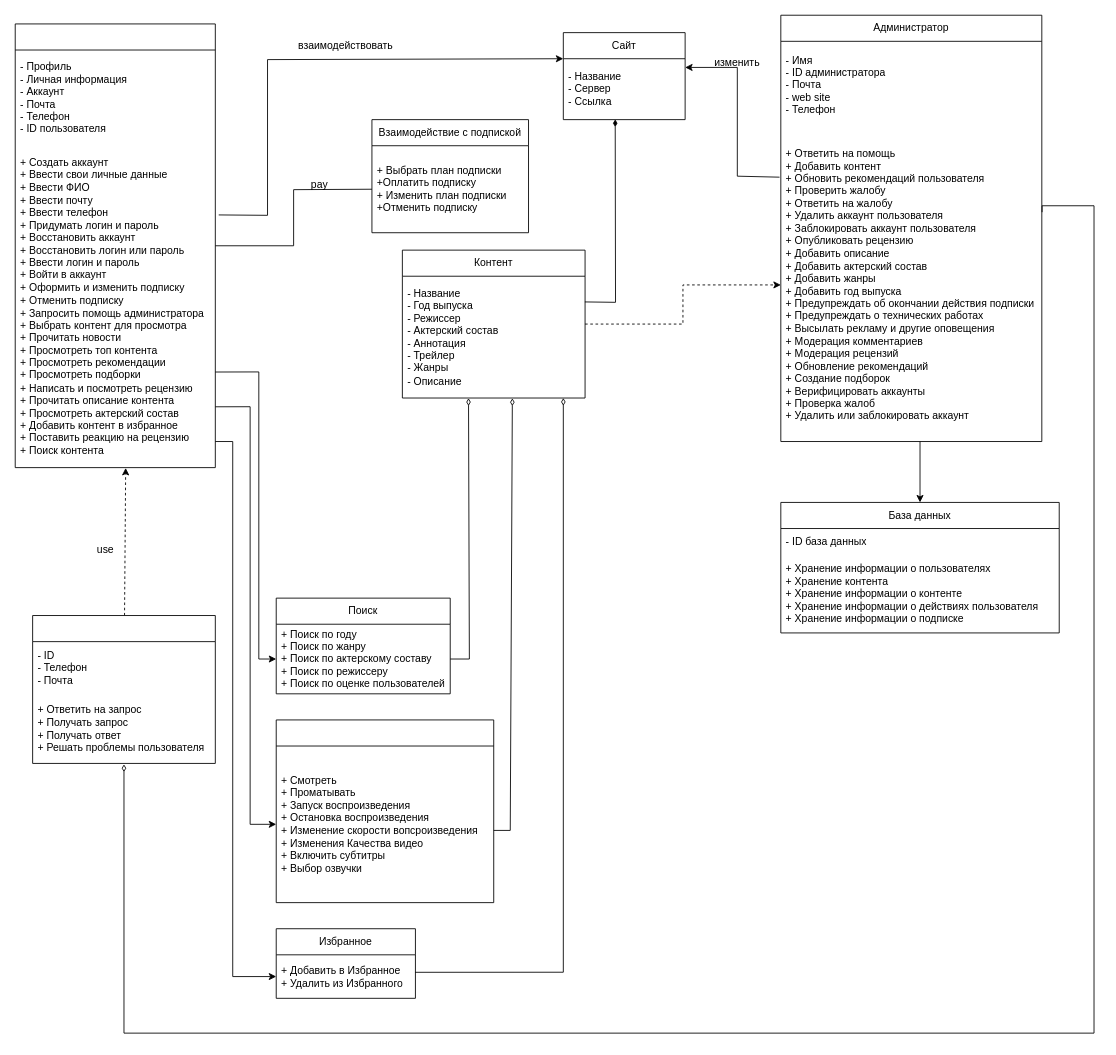
This 1116x1055 diagram has some shape labels left out. Here are the shapes that lost their labels. From the top down, the box of each, then its label:
(14, 23, 215, 468): Пользователь
(32, 615, 215, 763): Техническая поддержка
(275, 719, 494, 903): Просмотр
